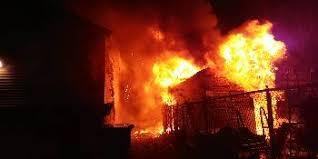fire: (146, 12, 287, 103)
